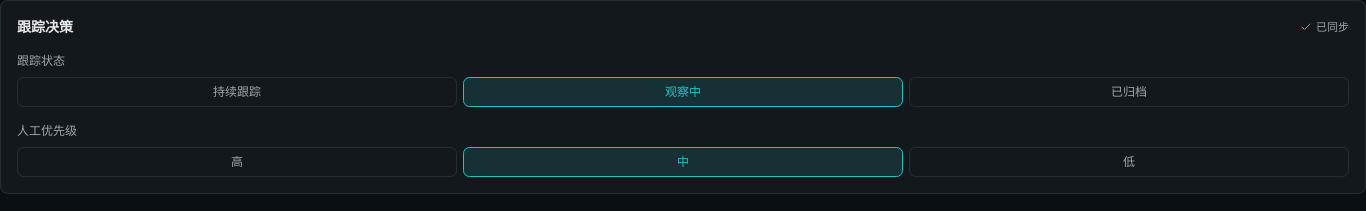
TrackingDecision › restores the previous pressed state when saving fails
Click the button "已归档": x=1129, y=92 [909,77,1349,107]
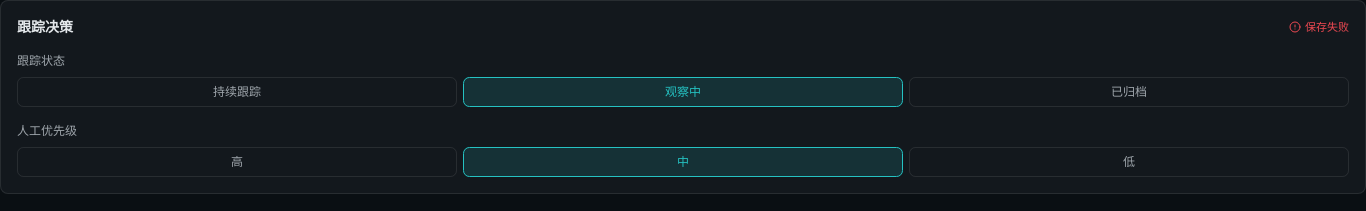
Check: the text "保存失败" is shown, box [1289,18,1349,36]
